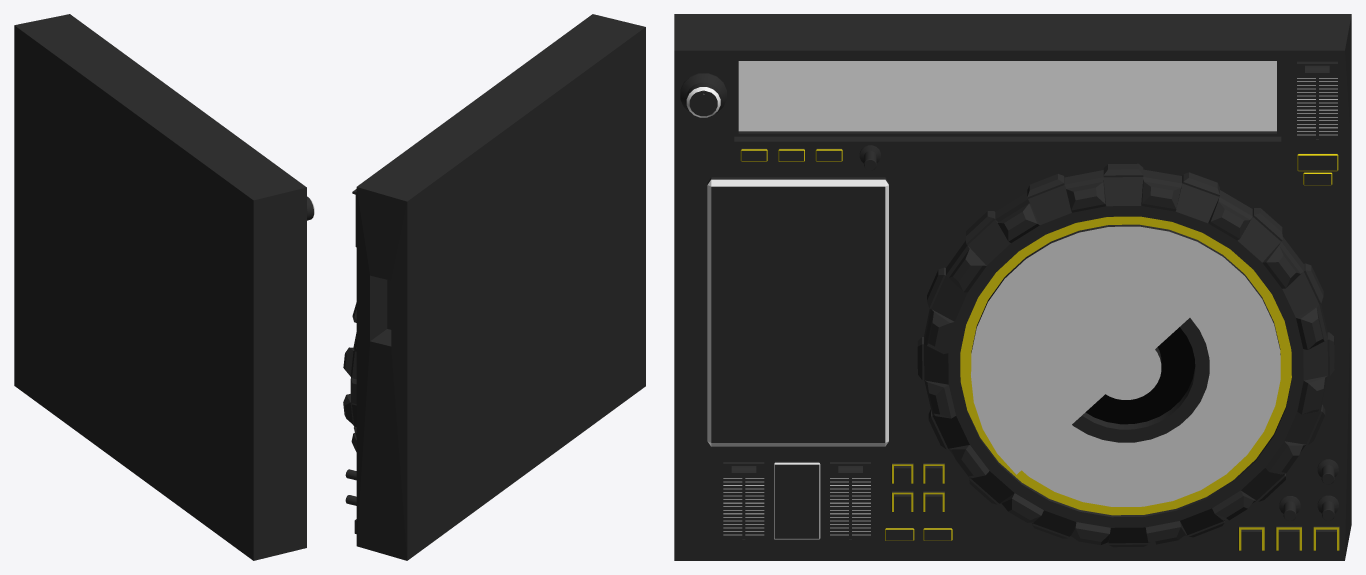
File: Music Select UI.fbx
3 views of the same model, side by side, from view 1: azimuth 30°, elevation 25°; view 2: azimuth 150°, elevation 25°; view 3: azimuth 270°, elevation 25° (orthographic). The views are drawn at different scales.
Visible parts, largest first — view 1: Panel; view 2: Panel, Rolling Panel; view 3: Panel, Rolling Panel, Frequency Panel.
Boxes of the visible parts, x1,y1,x2,y2 form: Panel: (14,14,314,560); Panel: (345,14,645,560); Rolling Panel: (343,302,356,451); Panel: (674,14,1351,560); Rolling Panel: (917,163,1334,547); Frequency Panel: (738,61,1276,131).
Bounding box in the file's own units: 0.6193 × 2.57 × 3.09.
